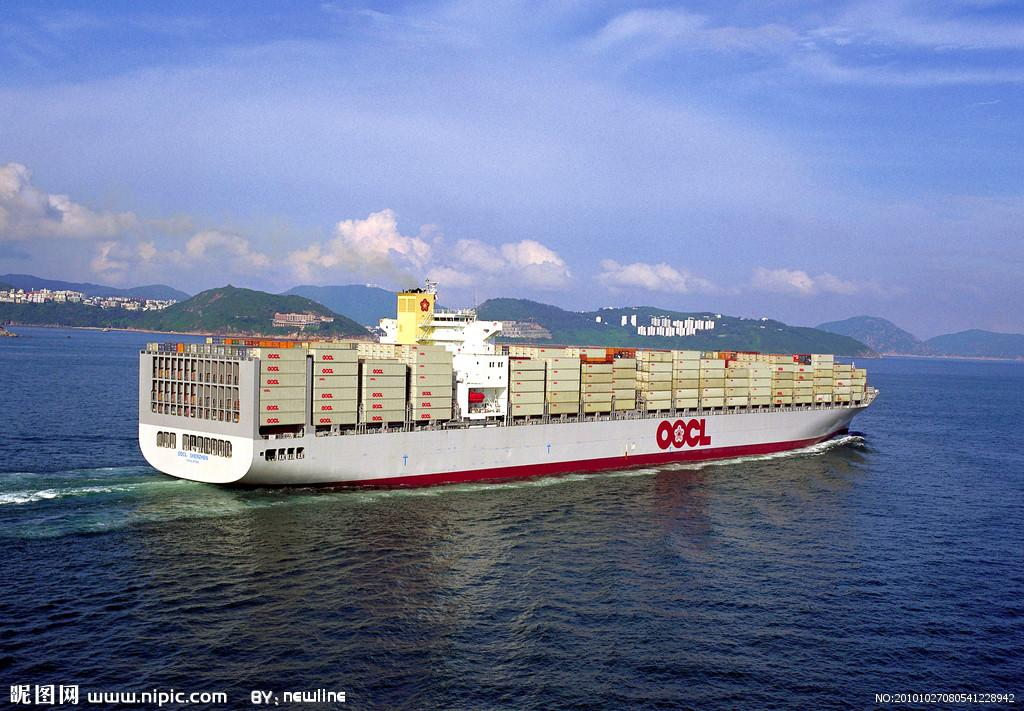Cargoship: (133, 245, 883, 497)
